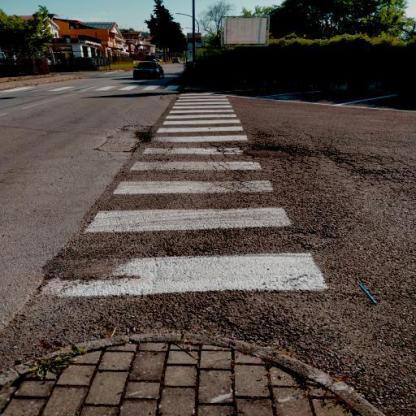crosswalk: (74, 177, 298, 239), (144, 124, 252, 146), (170, 100, 235, 111), (94, 83, 140, 95)
